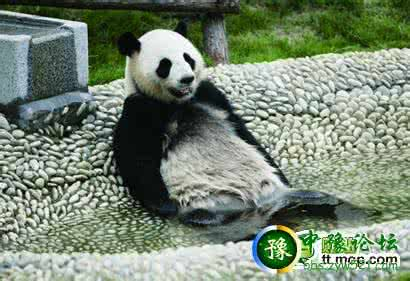panda: (108, 21, 286, 232)
